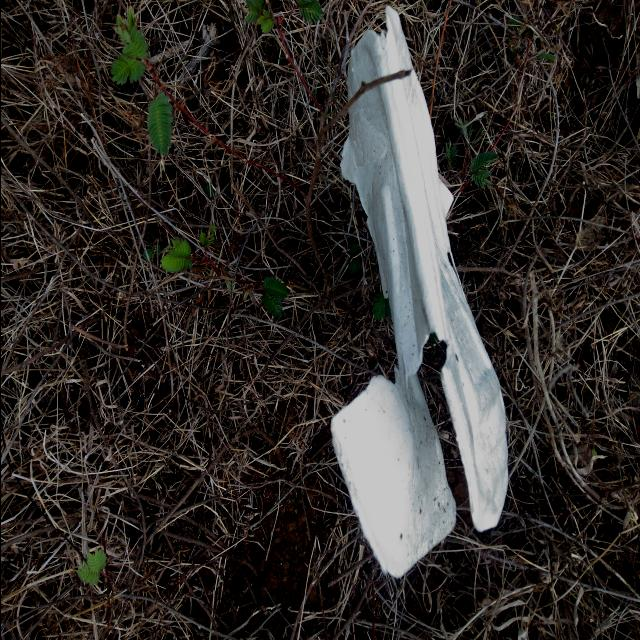Styrofoam piece: (329, 6, 507, 578)
